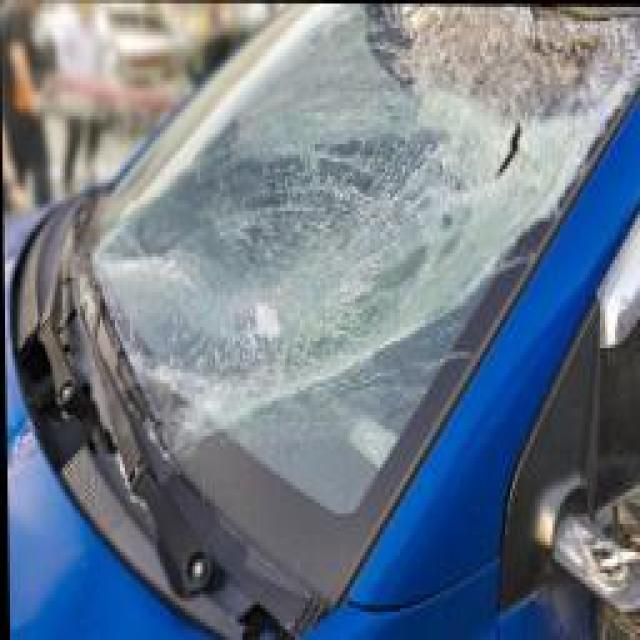Windshield: (118, 4, 534, 552)
